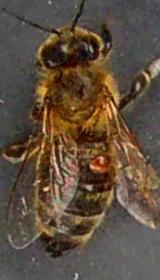varroa_mite: (81, 151, 113, 173)
